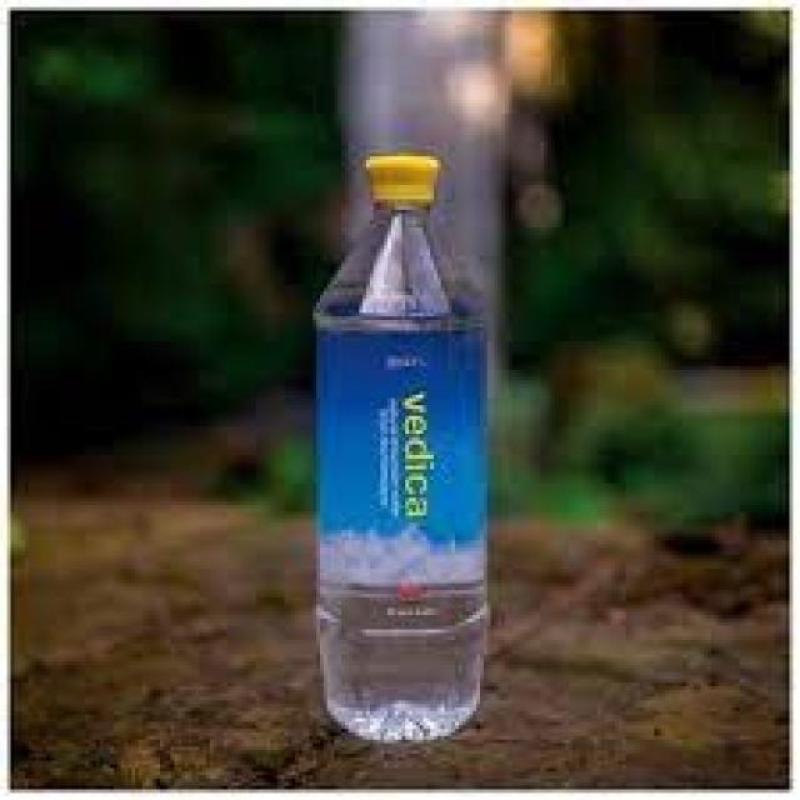botella: (314, 147, 494, 734)
